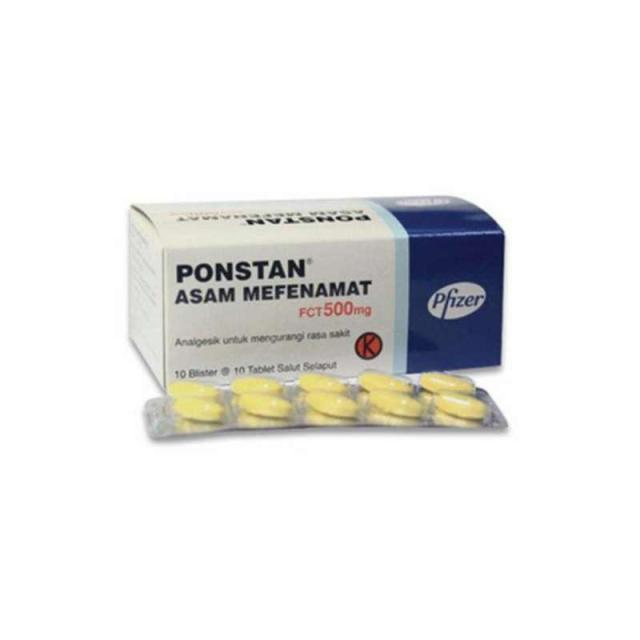drug-name: (174, 255, 308, 282)
